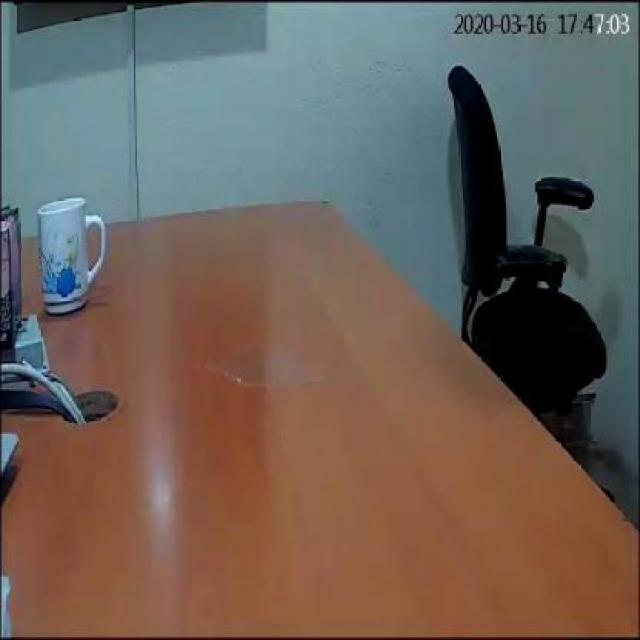spill: (205, 348, 318, 394)
